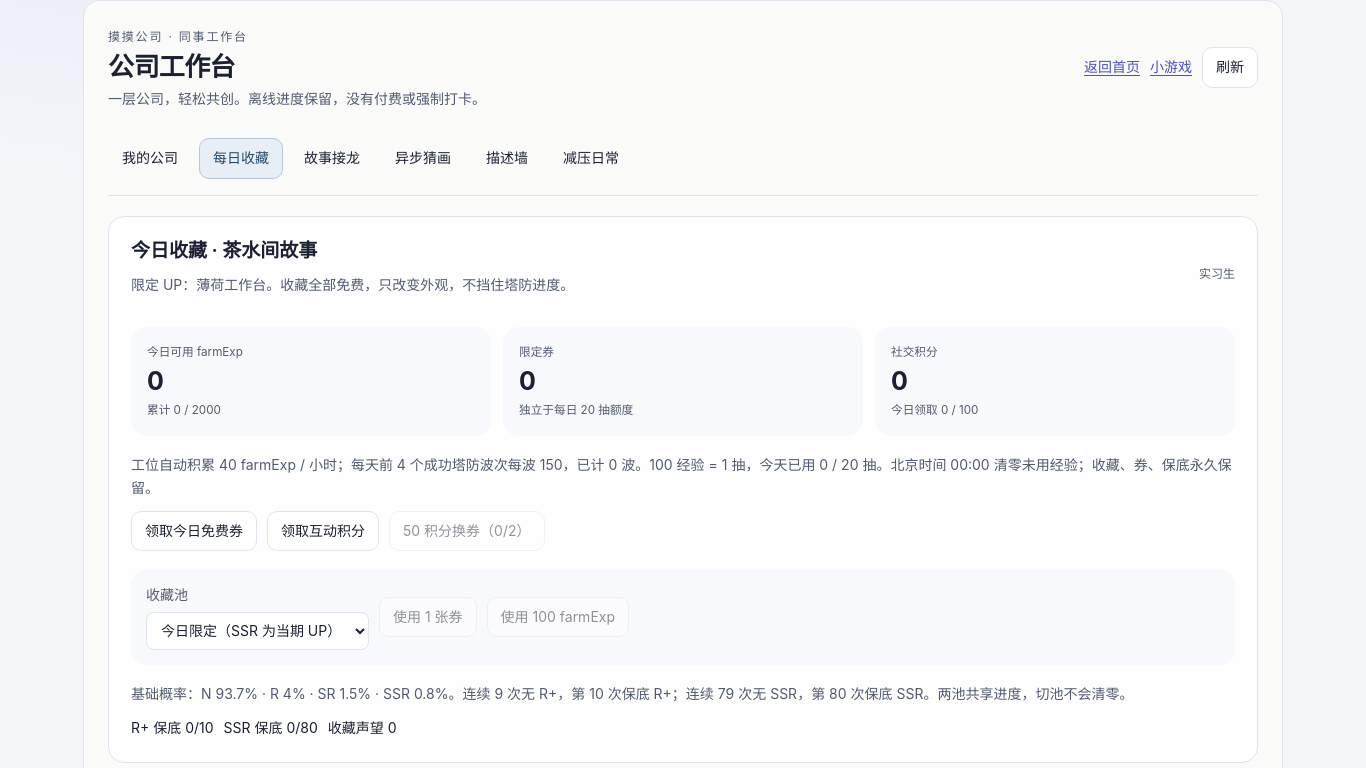
Test case: Office workspace functional controls › claims the actual server daily ticket and then disables duplicate claims
Click the button "领取今日免费券": (194, 531) left=131, top=511, right=257, bottom=551
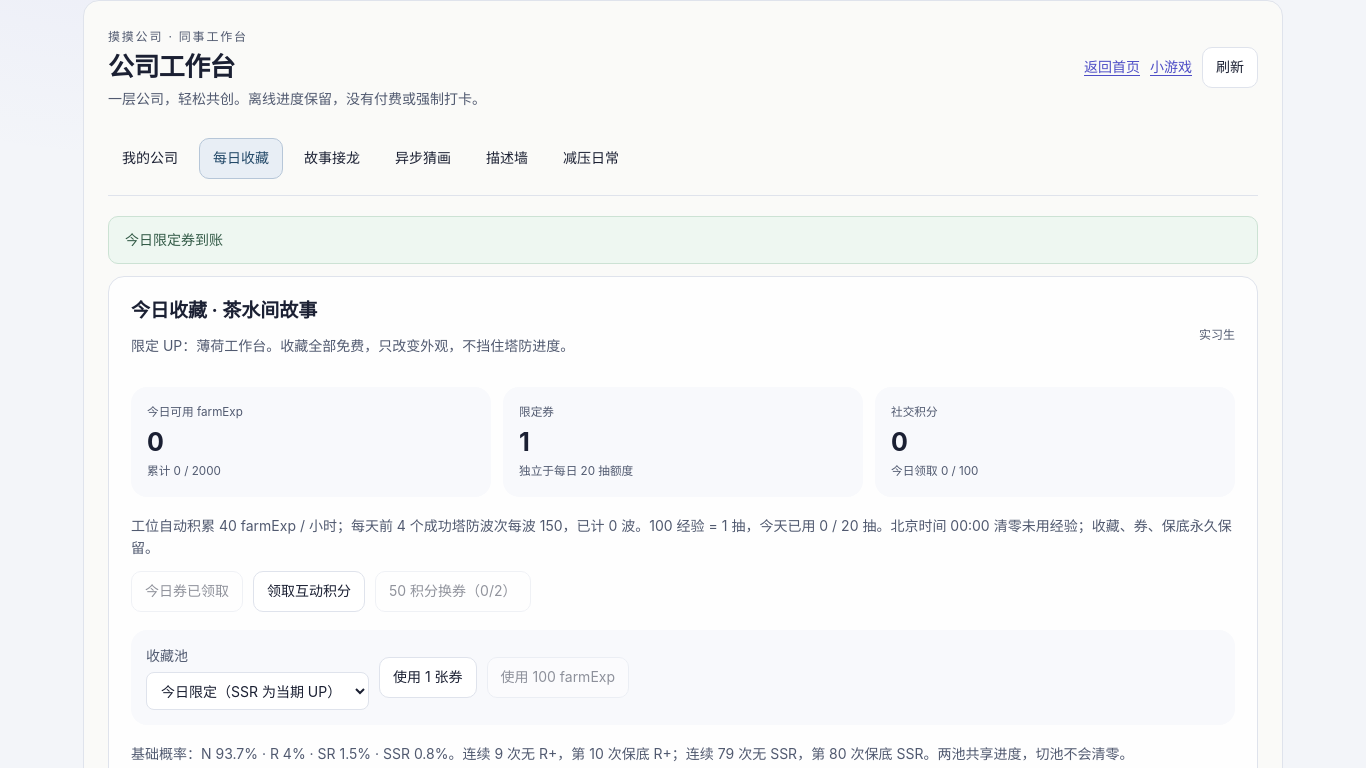
Expected: the button "今日券已领取" is disabled, left=131, top=571, right=243, bottom=612
Expected: the text "今日限定券到账" is shown, left=108, top=216, right=1258, bottom=264
